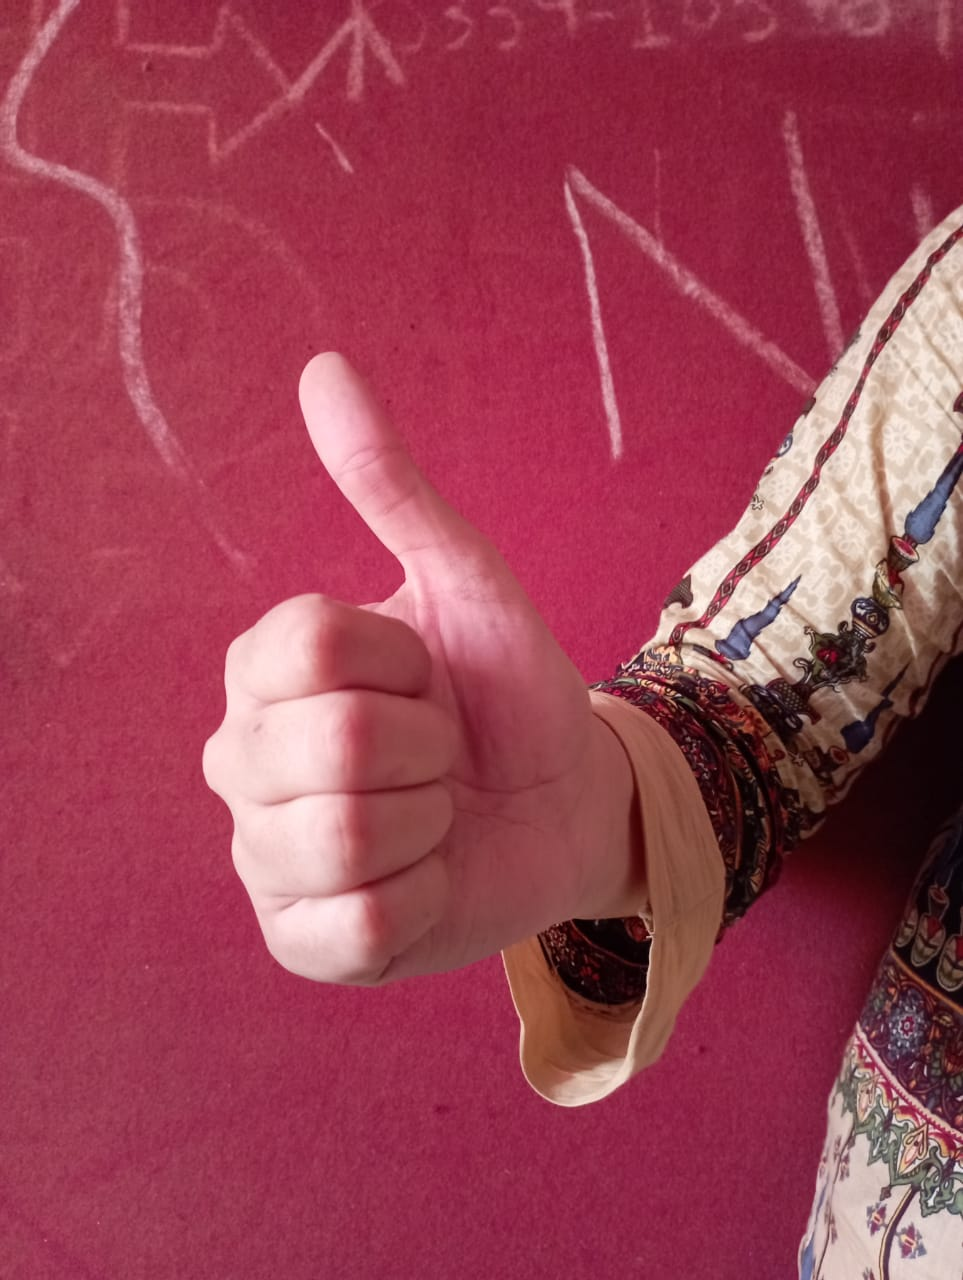I Like It: (185, 335, 609, 1004)
